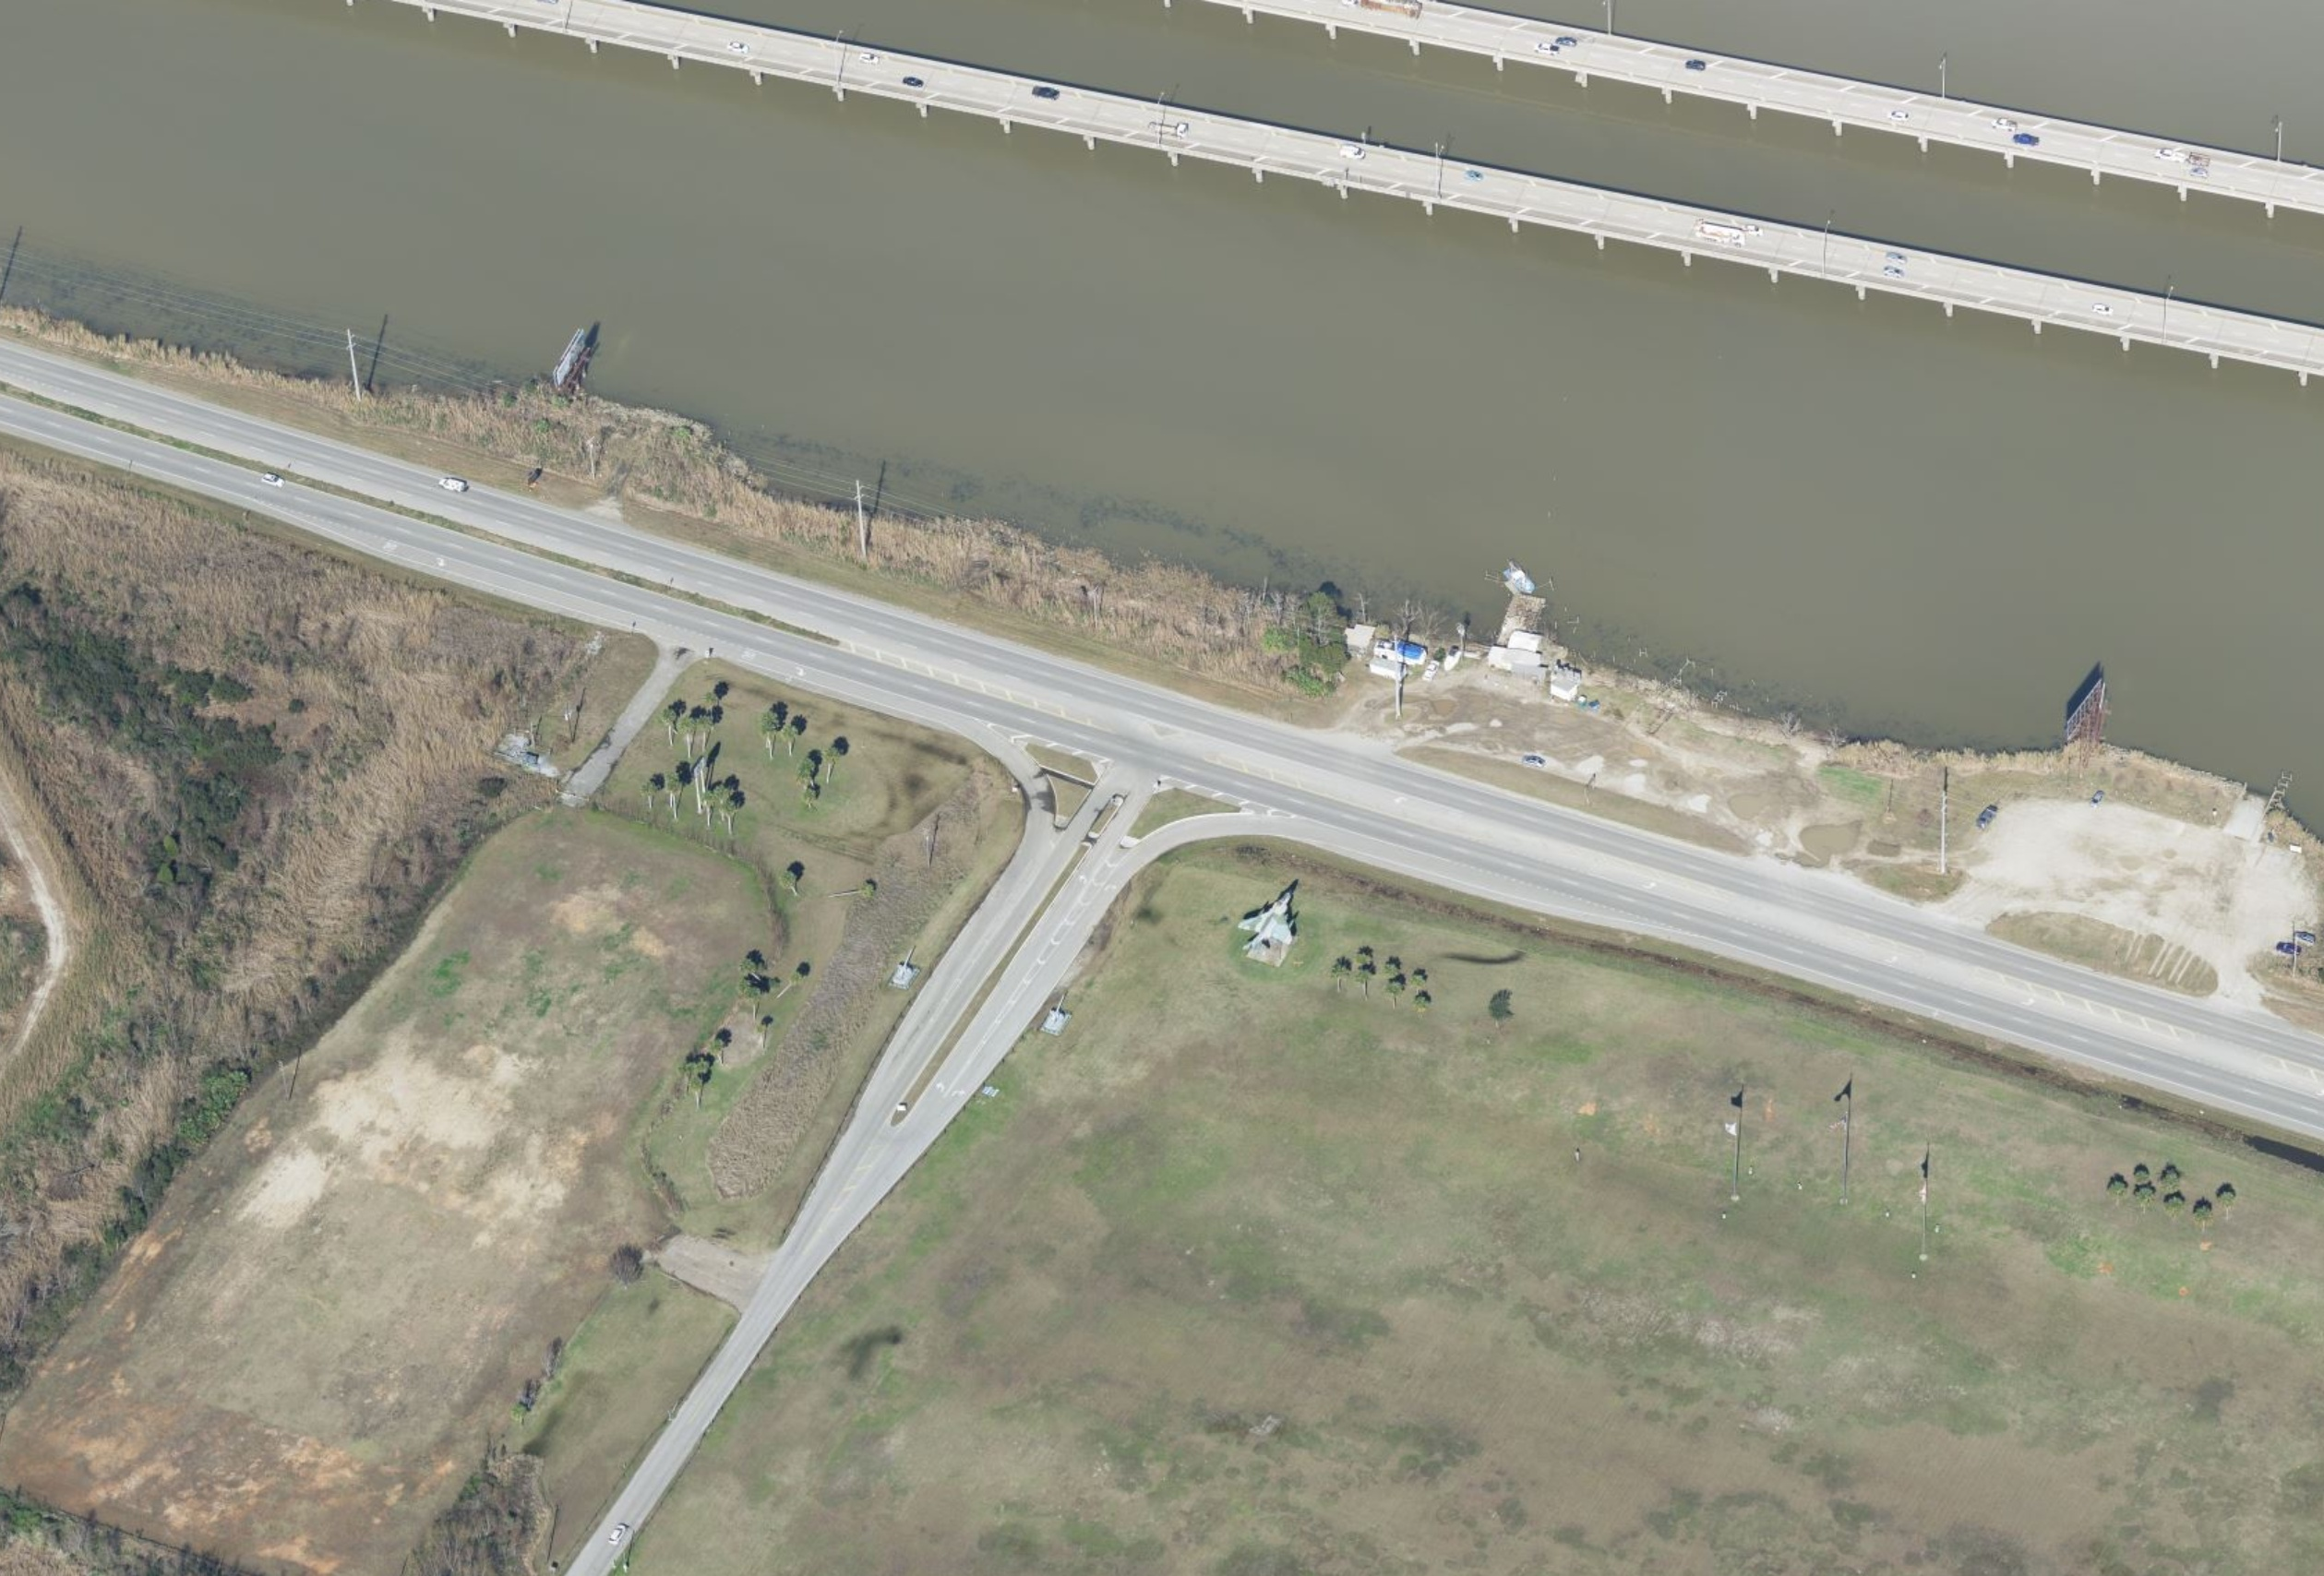F4: (1237, 888, 1297, 955)
